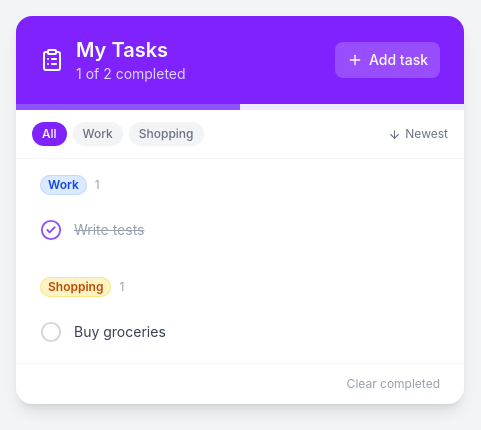
TodoList › toggles a task as done
Click the button named "Mark complete": {"x": 51, "y": 332} left=40, top=321, right=62, bottom=343
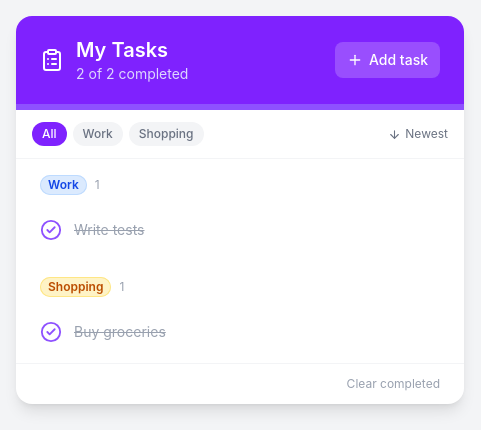
Now the text "2 of 2 completed" is shown, box left=76, top=64, right=188, bottom=84
